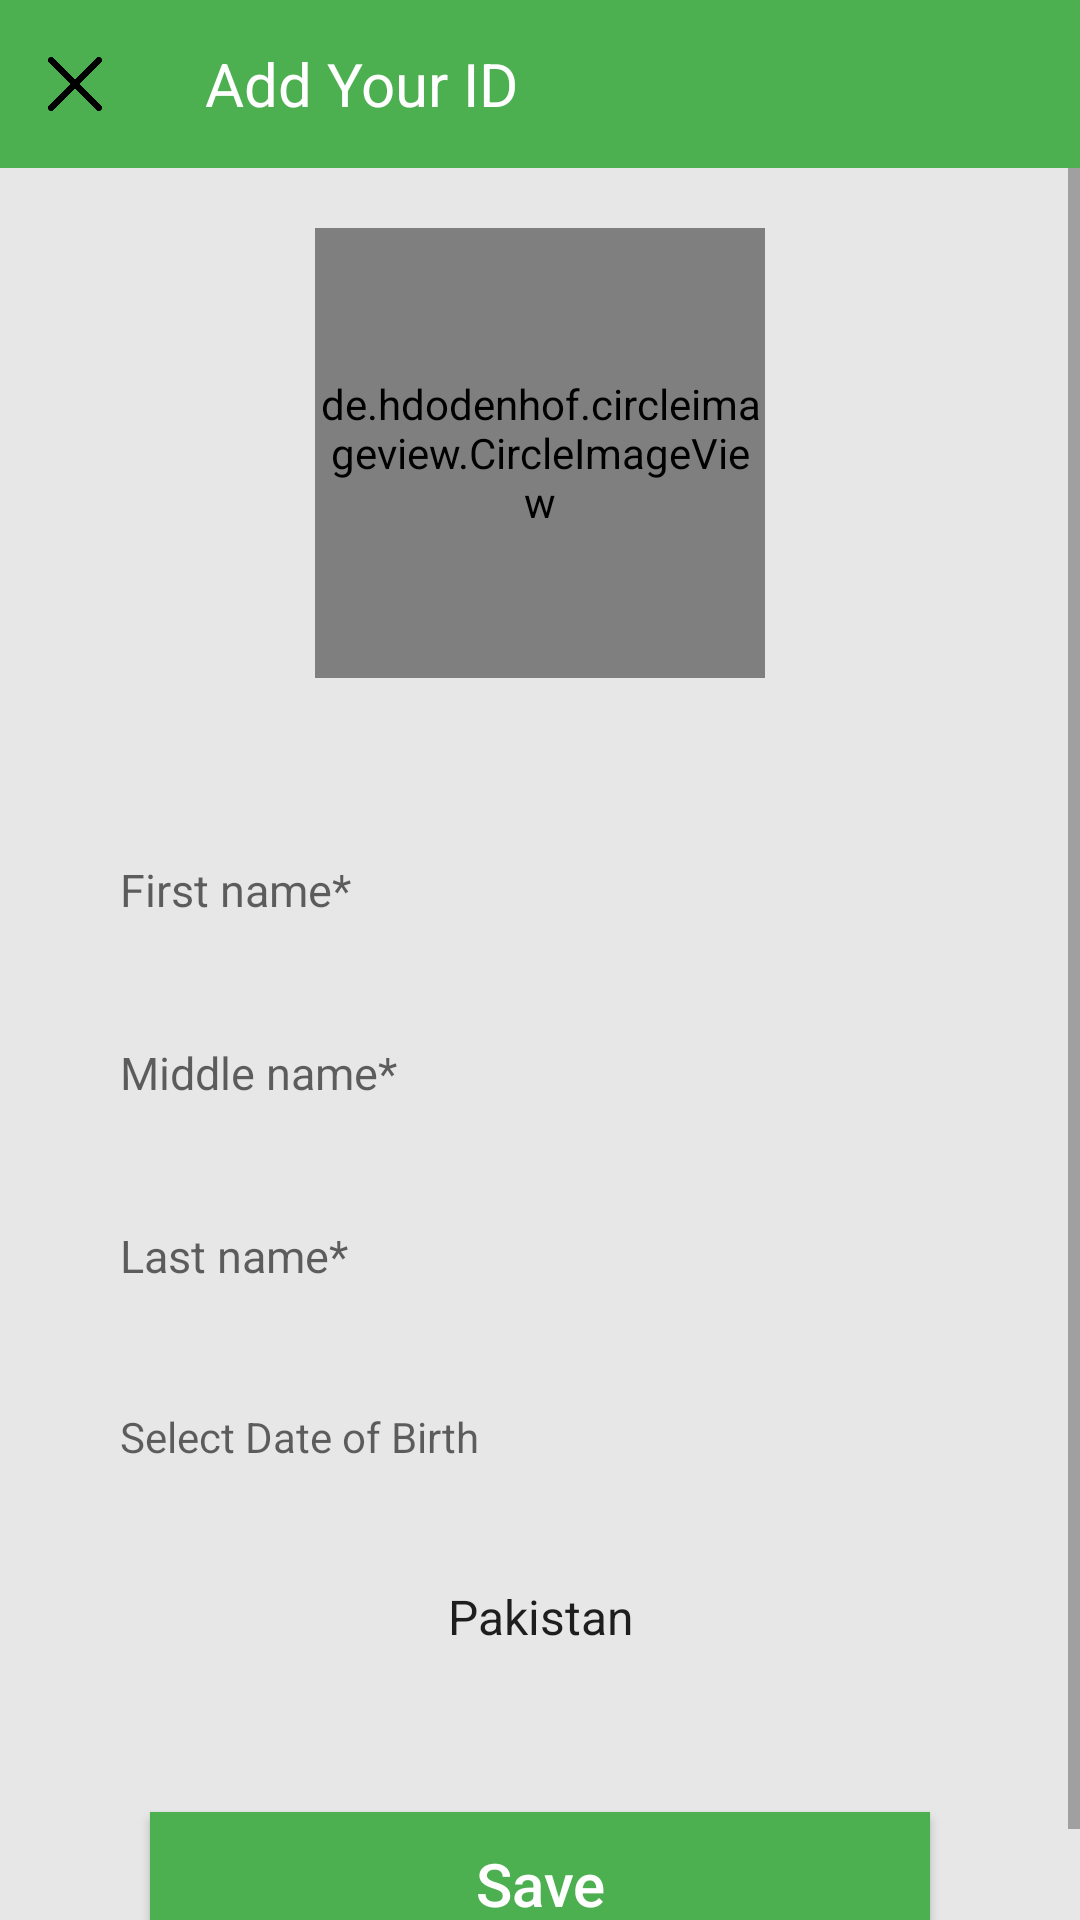

Screen size 1080px×1920px. Icon name, then its box in pixels as (x1, y1, x2, y2):
cross: (48, 57, 102, 111)
